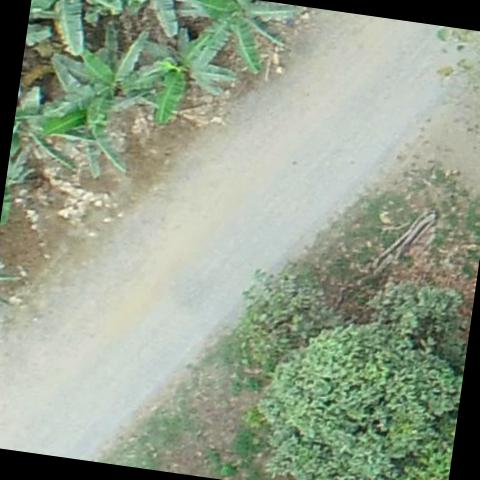Banana-plant: (61, 16, 176, 131), (26, 57, 138, 174), (161, 0, 292, 81)
